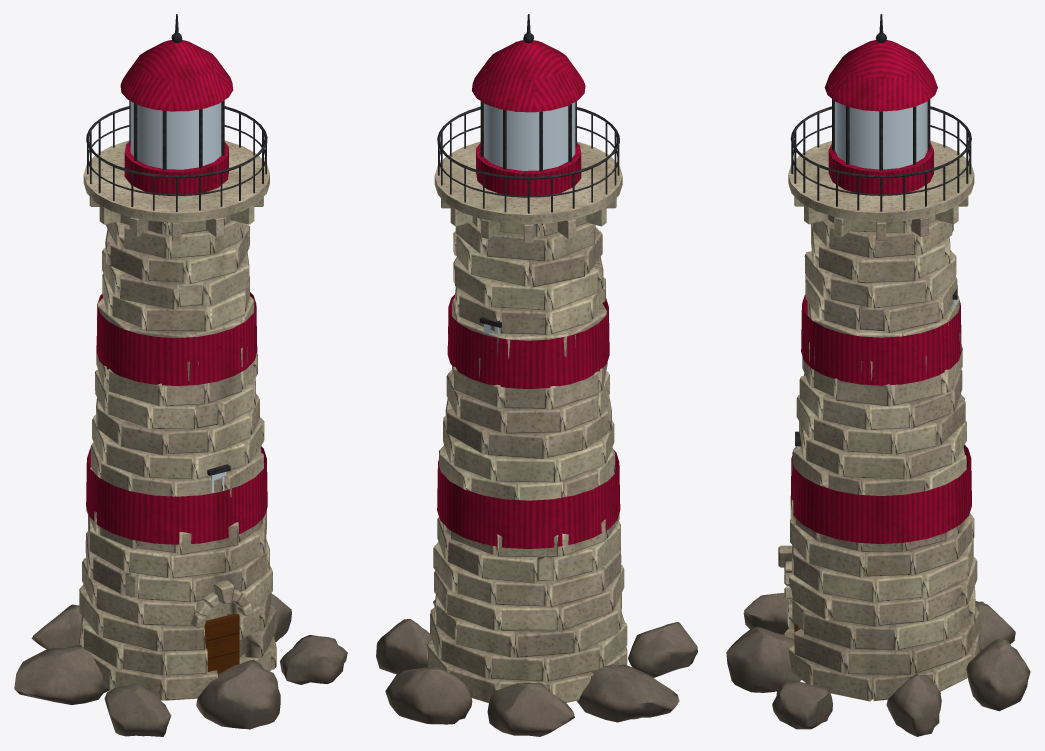
File: FaroScogliera.fbx
The picture shows the model from 3 angles, left to right: view 1: azimuth 30°, elevation 25°; view 2: azimuth 150°, elevation 25°; view 3: azimuth 270°, elevation 25°; orthographic projection.
Visible parts, largest first — view 1: Faro_Pietra, Faro_Fasce, Faro_Scogli, Faro_Vetri, Faro_Ferro, Faro_Porta; view 2: Faro_Pietra, Faro_Fasce, Faro_Scogli, Faro_Vetri, Faro_Ferro; view 3: Faro_Pietra, Faro_Fasce, Faro_Scogli, Faro_Vetri, Faro_Ferro.
Part boxes in pixels (x1,y1,x2,y2): Faro_Pietra: (78,140,276,700); Faro_Fasce: (86,40,267,544); Faro_Scogli: (14,594,347,736); Faro_Vetri: (130,101,226,493); Faro_Ferro: (86,14,267,475); Faro_Porta: (204,613,239,673); Faro_Pietra: (427,141,627,703); Faro_Fasce: (437,40,620,548); Faro_Scogli: (376,600,697,736); Faro_Vetri: (484,102,575,334); Faro_Ferro: (437,14,619,327); Faro_Pietra: (778,140,980,701); Faro_Fasce: (790,40,971,543); Faro_Scogli: (726,593,1030,736); Faro_Vetri: (797,101,955,448); Faro_Ferro: (790,14,971,446).
Bounding box in the file's own units: 819 × 1803 × 752.
